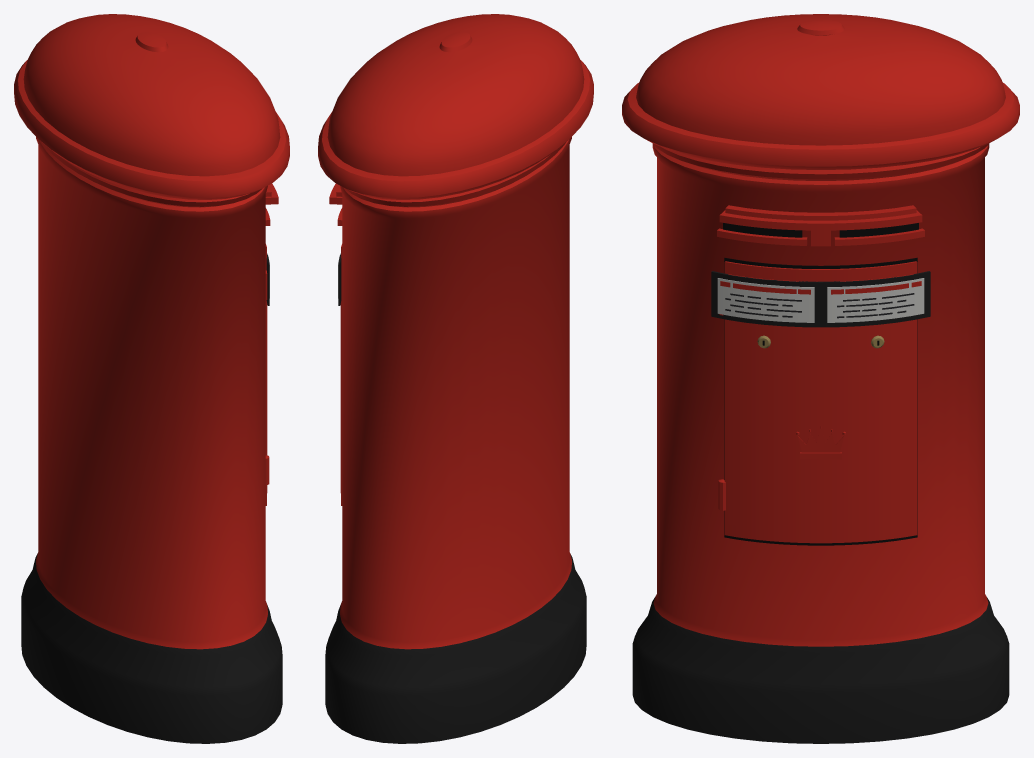
The model's file is SM_Prop_post_box_1.glb.
3 renders of one model, left to right at view 1: azimuth 30°, elevation 25°; view 2: azimuth 150°, elevation 25°; view 3: azimuth 270°, elevation 25°, orthographic. The views are drawn at different scales.
Visible parts, largest first — view 1: SM_Prop_post_box_1; view 2: SM_Prop_post_box_1; view 3: SM_Prop_post_box_1.
Part boxes in pixels (x1=…): SM_Prop_post_box_1: x1=14, y1=14, x2=289, y2=743; SM_Prop_post_box_1: x1=318, y1=14, x2=593, y2=743; SM_Prop_post_box_1: x1=622, y1=14, x2=1019, y2=743.
Bounding box in the file's own units: 0.57 × 1.72 × 0.9234.
